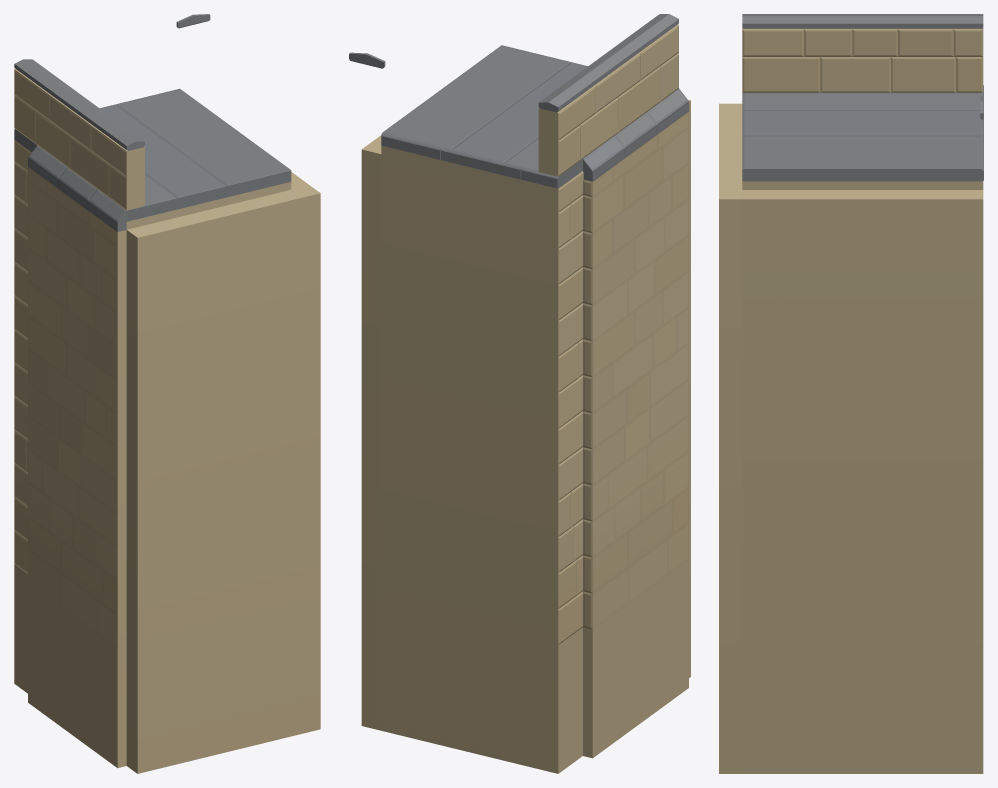
3 views of the same model, side by side, from view 1: azimuth 30°, elevation 25°; view 2: azimuth 150°, elevation 25°; view 3: azimuth 270°, elevation 25° (orthographic). The views are drawn at different scales.
Visible parts, largest first — view 1: Mesh_Limestone, Mesh_Granite; view 2: Mesh_Limestone, Mesh_Granite; view 3: Mesh_Limestone, Mesh_Granite.
Part boxes in pixels (x1,y1,x2,y2): Mesh_Limestone: (14, 69, 320, 773); Mesh_Granite: (14, 14, 291, 231); Mesh_Limestone: (361, 24, 690, 773); Mesh_Granite: (349, 14, 688, 188); Mesh_Limestone: (719, 28, 983, 773); Mesh_Granite: (742, 14, 983, 181).
Bounding box in the file's own units: 3.34 × 9.8 × 3.51.
